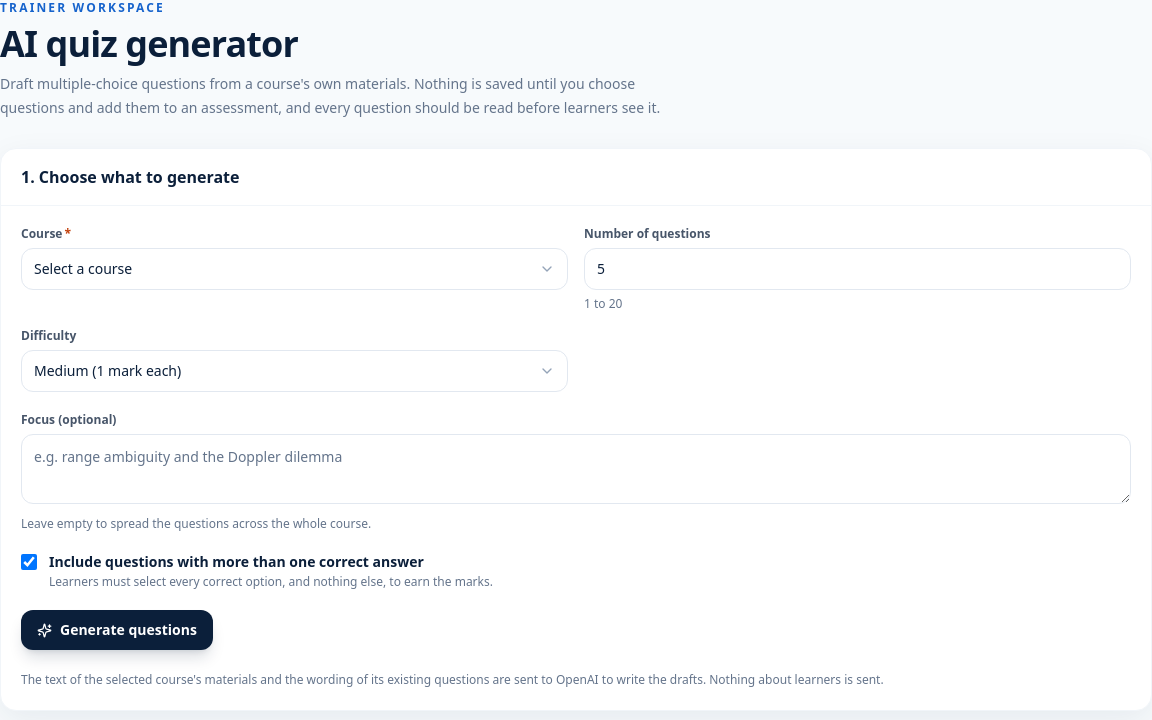
Test case: AI quiz generator › keeps the drafts on screen when the course has no assessment yet, and says what to do
Select "Doppler Radar Analysis" in the dropdown labelled "Course*" at x=294, y=269, box [21,248,568,290]
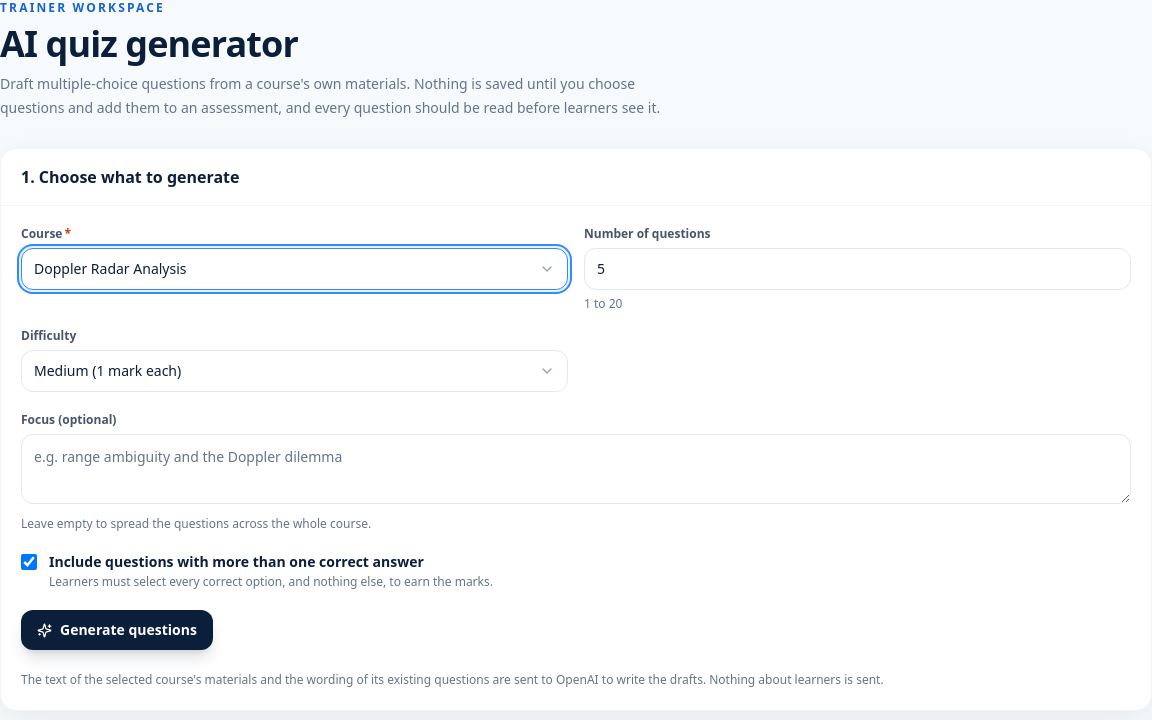
Click the button "Generate questions" at x=117, y=630, box [21,610,213,650]
(page scrolled)
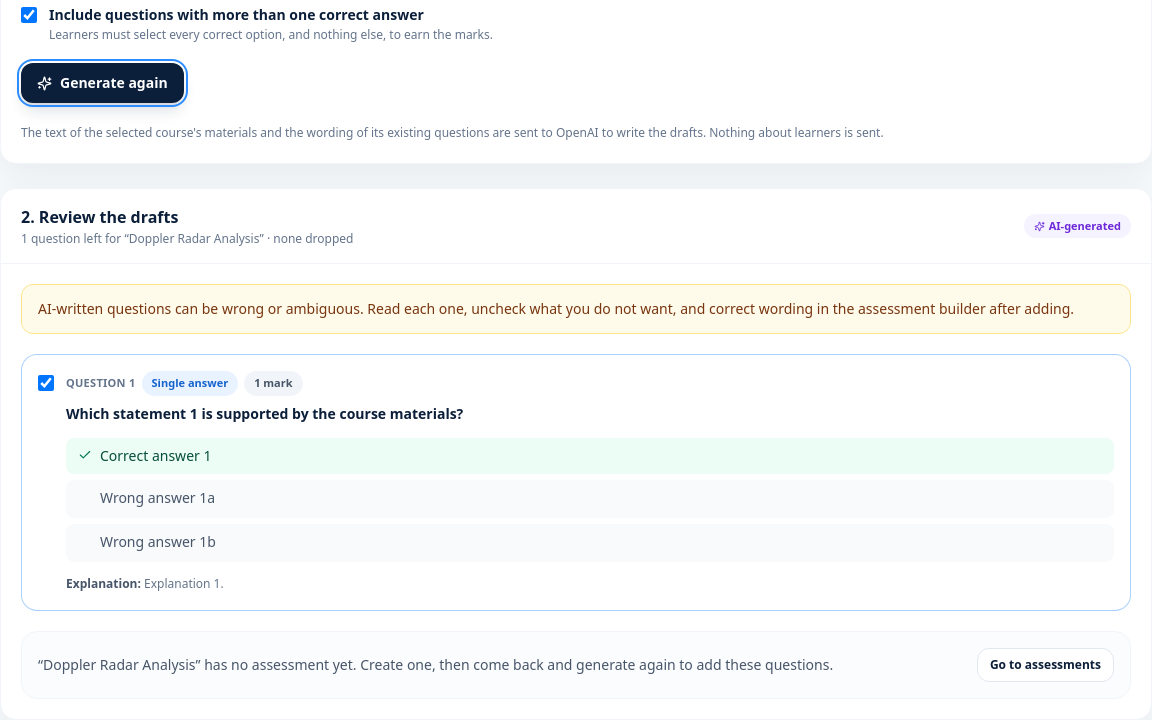
Expected: the text "has no assessment yet" is shown, [196,654,833,674]
Expected: the text "Which statement 1 is supported by the course materials?" is shown, [66,404,463,422]
